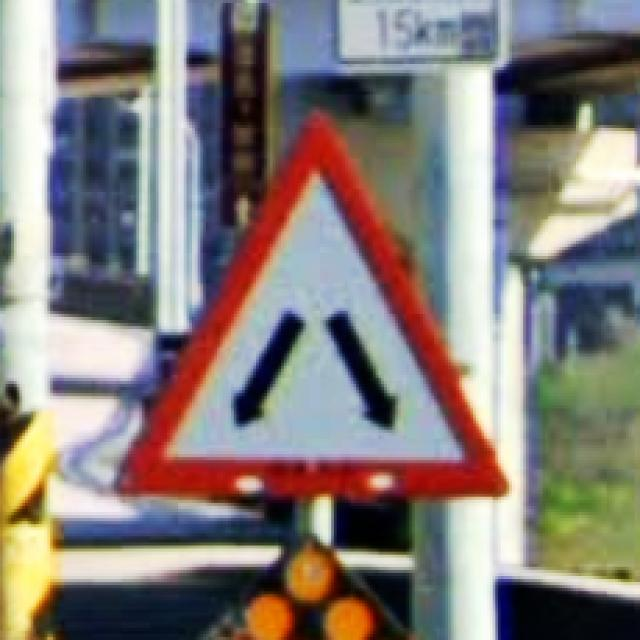diverge: (111, 104, 512, 509)
